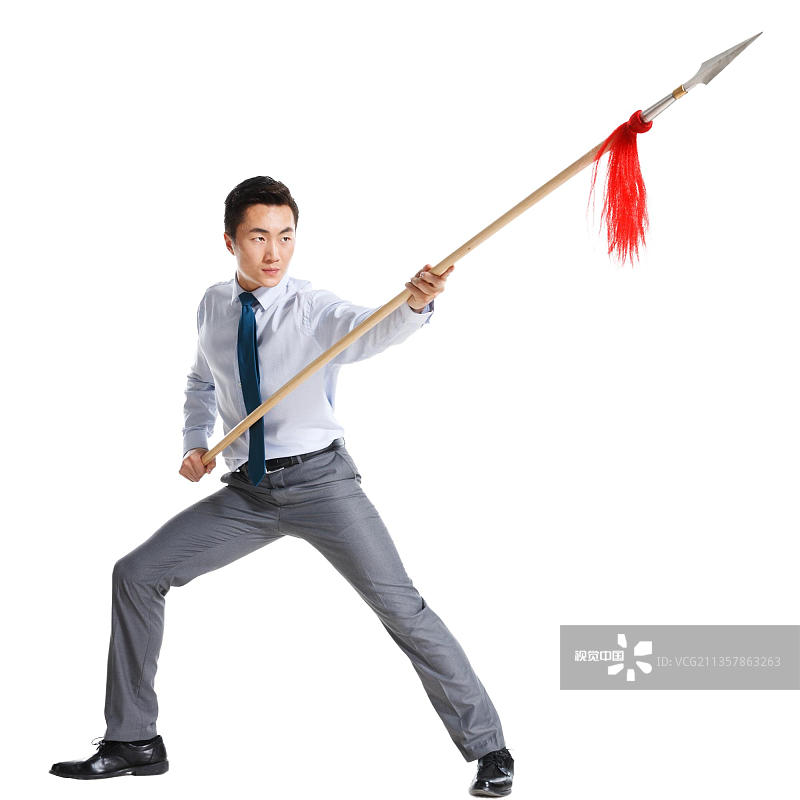no-phone: (396, 258, 465, 316), (159, 434, 226, 488)
